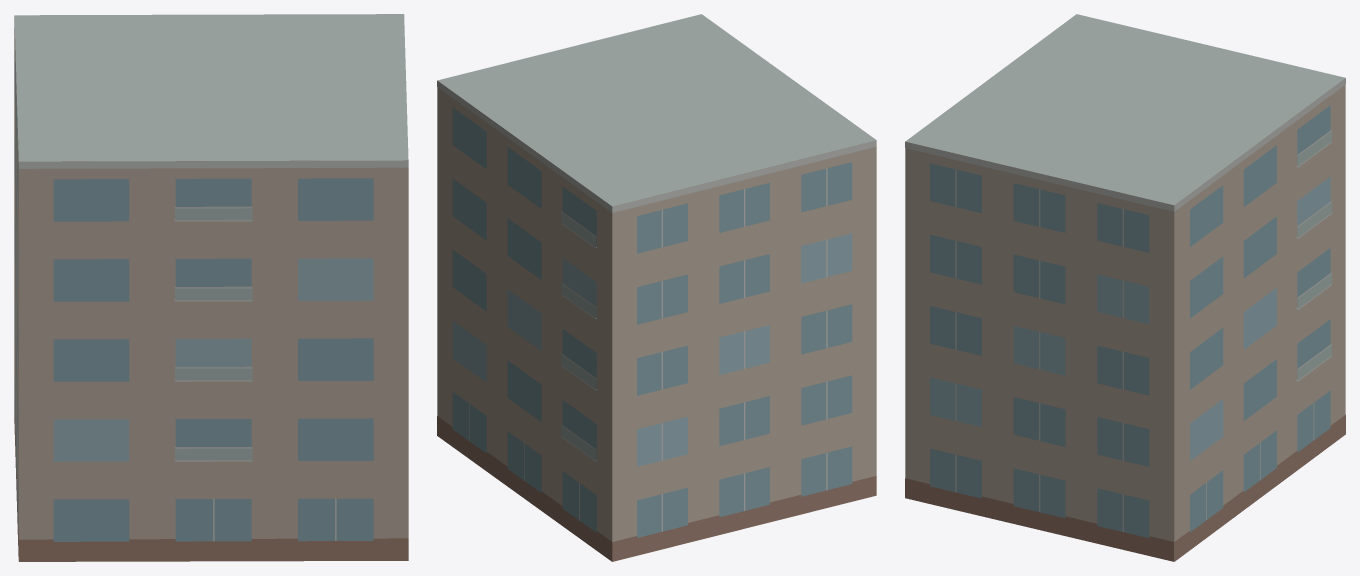
The model's file is survey-upis-32653105.glb.
3 renders of one model, left to right at view 1: azimuth 30°, elevation 25°; view 2: azimuth 150°, elevation 25°; view 3: azimuth 270°, elevation 25°, orthographic. The views are drawn at different scales.
Visible parts, largest first — view 1: survey-upis-32653105.tmp; view 2: survey-upis-32653105.tmp; view 3: survey-upis-32653105.tmp.
Boxes of the visible parts, x1,y1,x2,y2 form: survey-upis-32653105.tmp: (14,14,408,561); survey-upis-32653105.tmp: (437,14,876,561); survey-upis-32653105.tmp: (905,14,1345,561).
Size of the model in its own units: 15.43 by 13.4 by 15.02.
